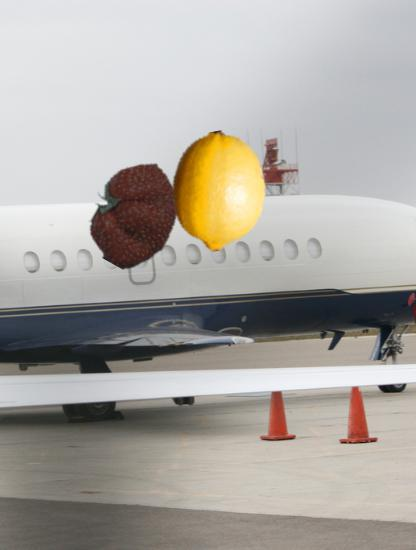Lemon: (160, 132, 278, 250)
Strawberry: (80, 159, 189, 268)
